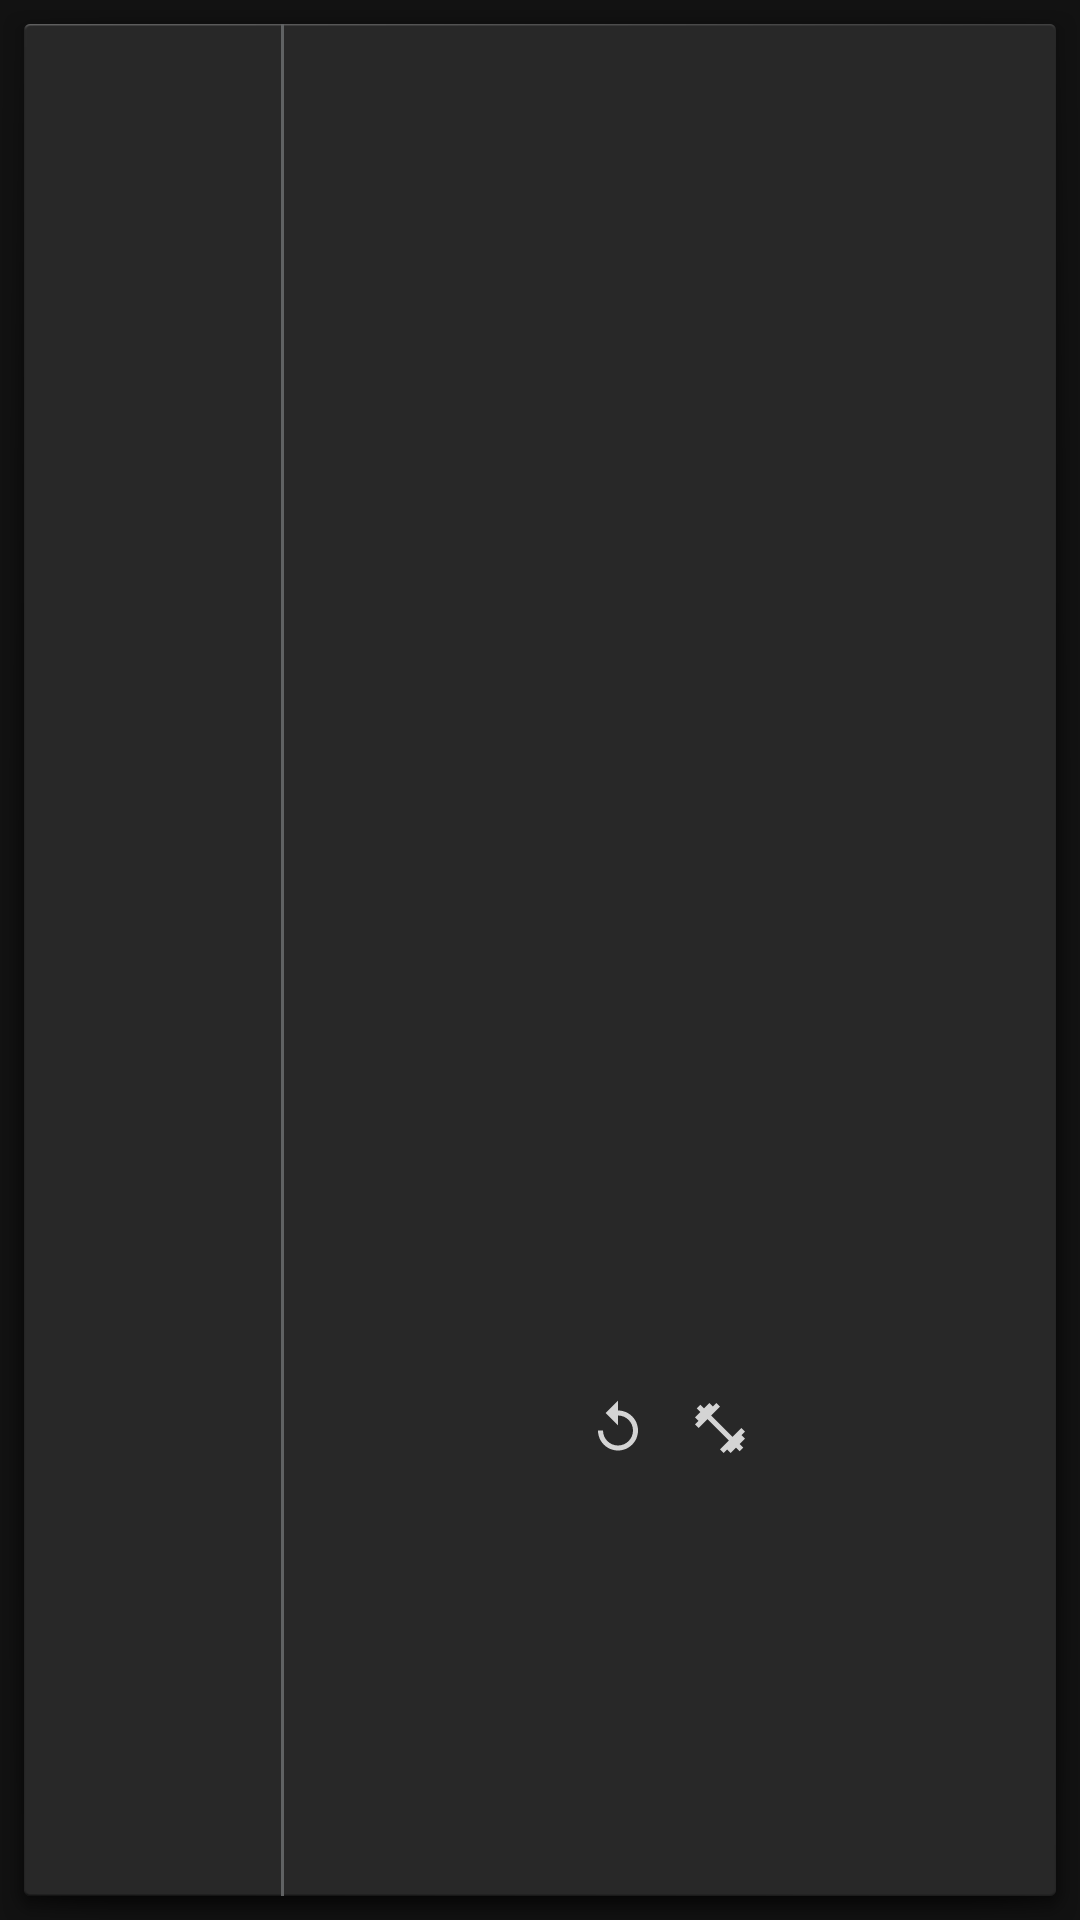

Screen size 1080×1920. Icon name, then its box in pixels as (x1, y1, x2, y2):
repeat: (598, 1401, 638, 1451)
weight: (695, 1403, 745, 1453)
